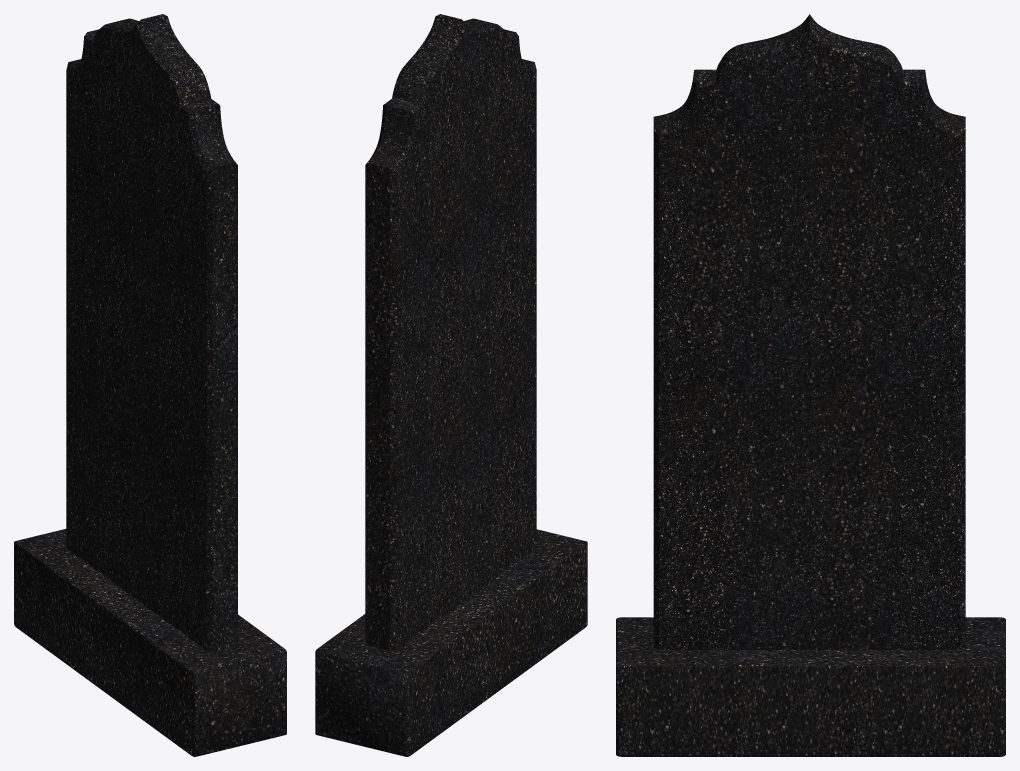
File: Памятник вола Габро [granite_u_u] (90).glb
3 renders of one model, left to right at view 1: azimuth 30°, elevation 25°; view 2: azimuth 150°, elevation 25°; view 3: azimuth 270°, elevation 25°, orthographic. The views are drawn at different scales.
Parts seen in each view (by area): view 1: Cube.059; view 2: Cube.059; view 3: Cube.059.
Boxes of the visible parts, bbox=[...] form: Cube.059: bbox=[14, 14, 286, 756]; Cube.059: bbox=[315, 14, 587, 756]; Cube.059: bbox=[616, 14, 1005, 756].
Size of the model in its own units: 0.15 by 1.01 by 0.5.
1 material, 1 textured.
